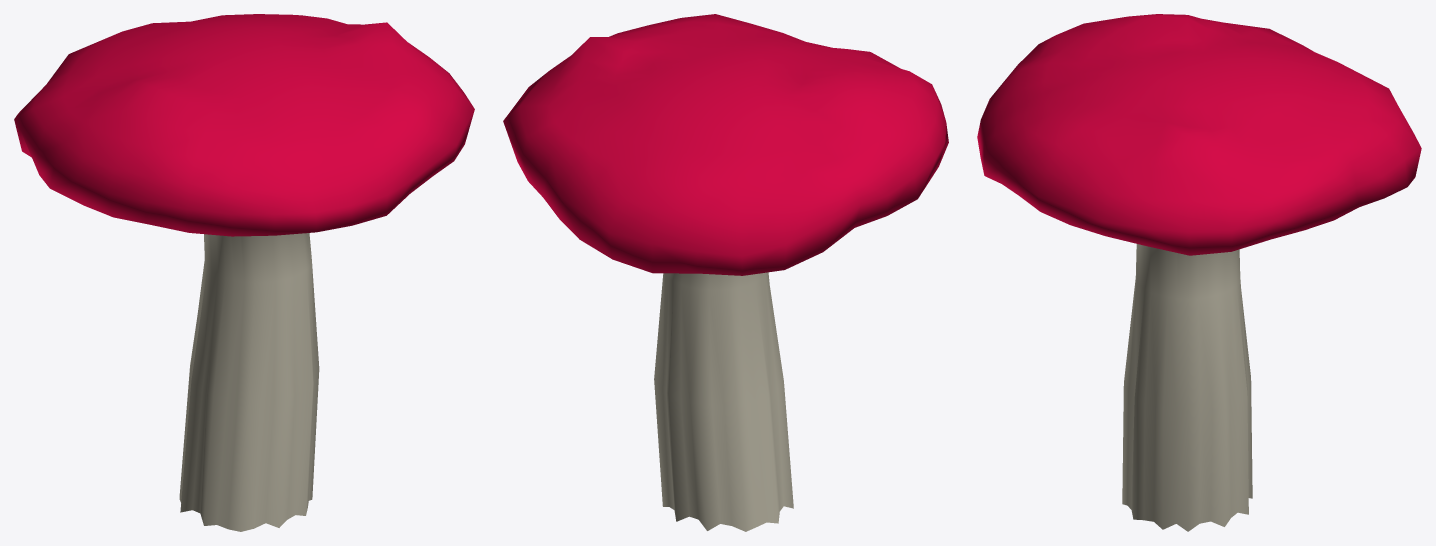
File: mushroom 2.dae
The picture shows the model from 3 angles, left to right: view 1: azimuth 30°, elevation 25°; view 2: azimuth 150°, elevation 25°; view 3: azimuth 270°, elevation 25°; orthographic projection. The views are drawn at different scales.
Parts seen in each view (by area): view 1: Sphere; view 2: Sphere; view 3: Sphere.
Part boxes in pixels (x1,y1,x2,y2): Sphere: [14, 14, 474, 531]; Sphere: [503, 14, 948, 531]; Sphere: [977, 14, 1421, 531].
Bounding box in the file's own units: 2.18 × 2.16 × 2.35.
